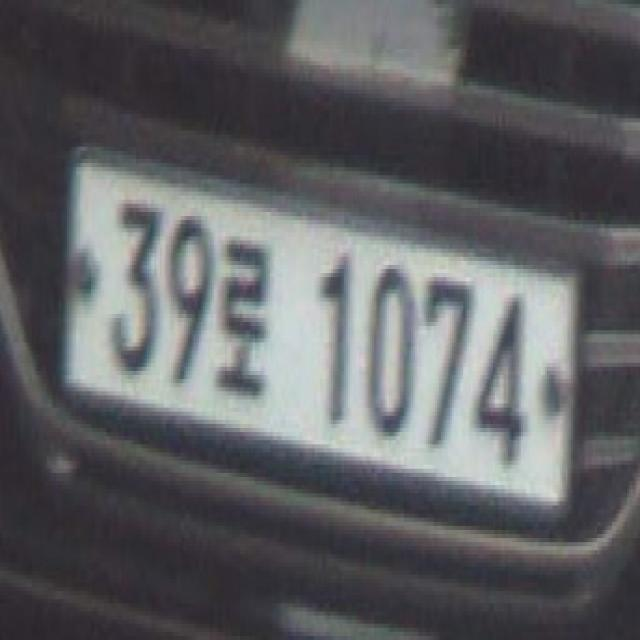0: (368, 257, 415, 444)
1: (318, 249, 354, 428)
3: (113, 192, 162, 375)
4: (474, 289, 526, 465)
7: (422, 269, 472, 453)
9: (164, 208, 214, 383)
license_plate: (56, 147, 580, 538)
lo: (214, 236, 270, 412)
